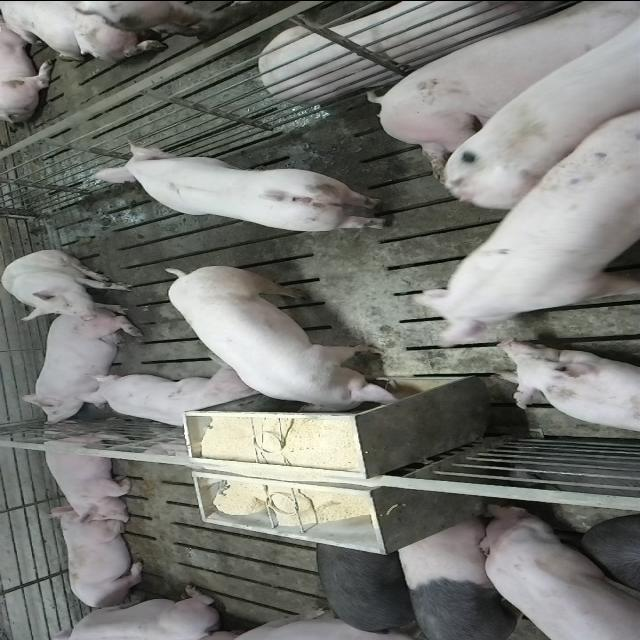Feeding: (164, 270, 412, 420)
Lateral_lying: (258, 0, 608, 103)
Sitting: (2, 249, 136, 320)
Standing: (412, 101, 640, 358), (425, 3, 640, 215), (96, 140, 396, 233), (473, 502, 640, 638), (396, 512, 554, 638), (311, 536, 422, 636)
Sternal_lying: (12, 314, 138, 426), (494, 344, 640, 436), (78, 367, 258, 430), (37, 584, 226, 638), (36, 424, 138, 524), (52, 510, 149, 610)
